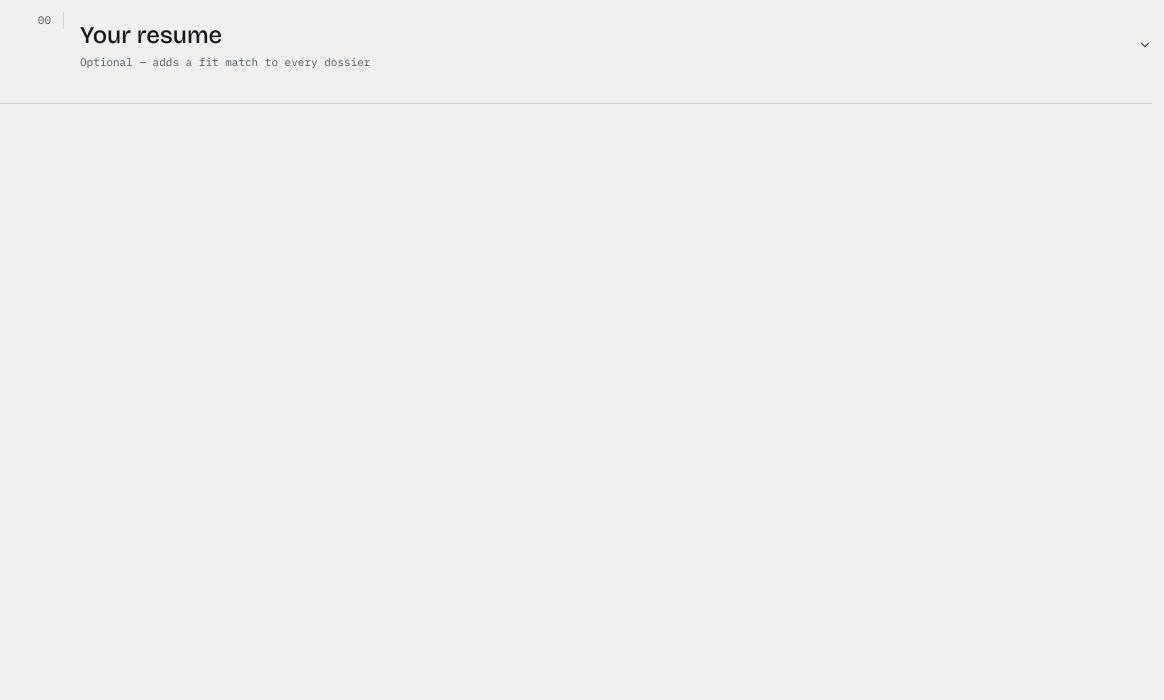
Scenario: ResumePanel — account region (reactive) › opens the create-account form inline from Create an account
The image size is (1164, 700).
What coordinates should you click on to do the following:
click the button "Your resume Optional — adds a fit match to every dossier"
I would click on:
 (151, 35)
Its box is x1=80 y1=12 x2=1152 y2=78.
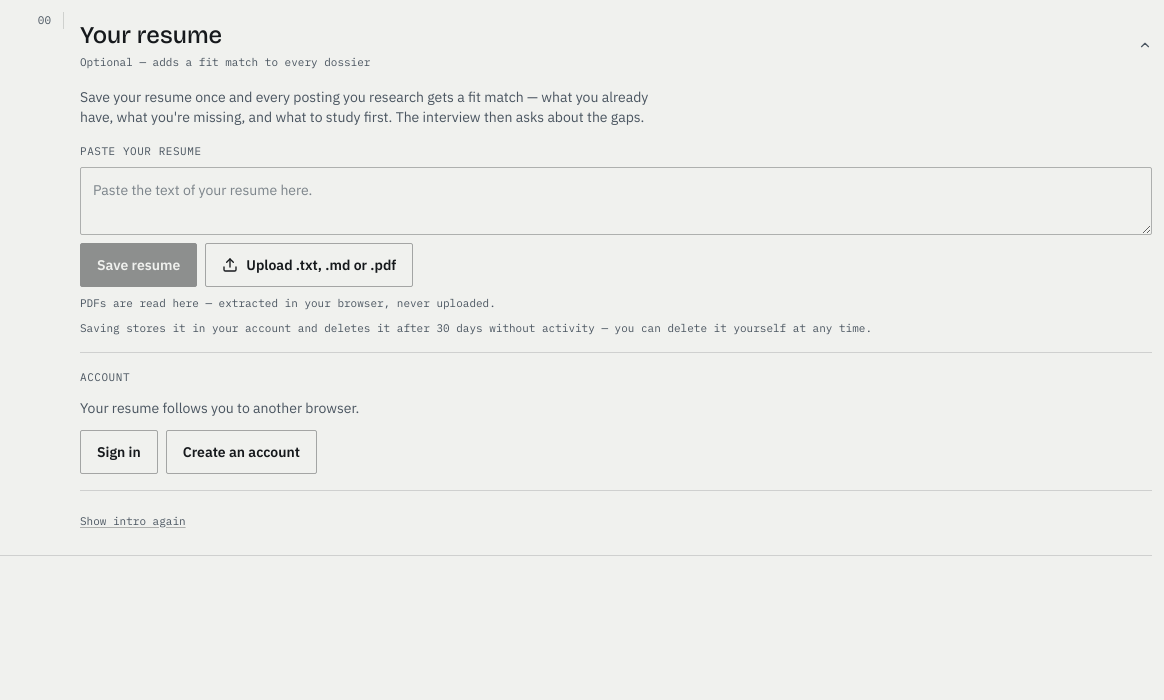
What coordinates should you click on to do the following:
click the button "Create an account"
I would click on:
 (241, 452)
Its box is x1=166 y1=430 x2=317 y2=474.
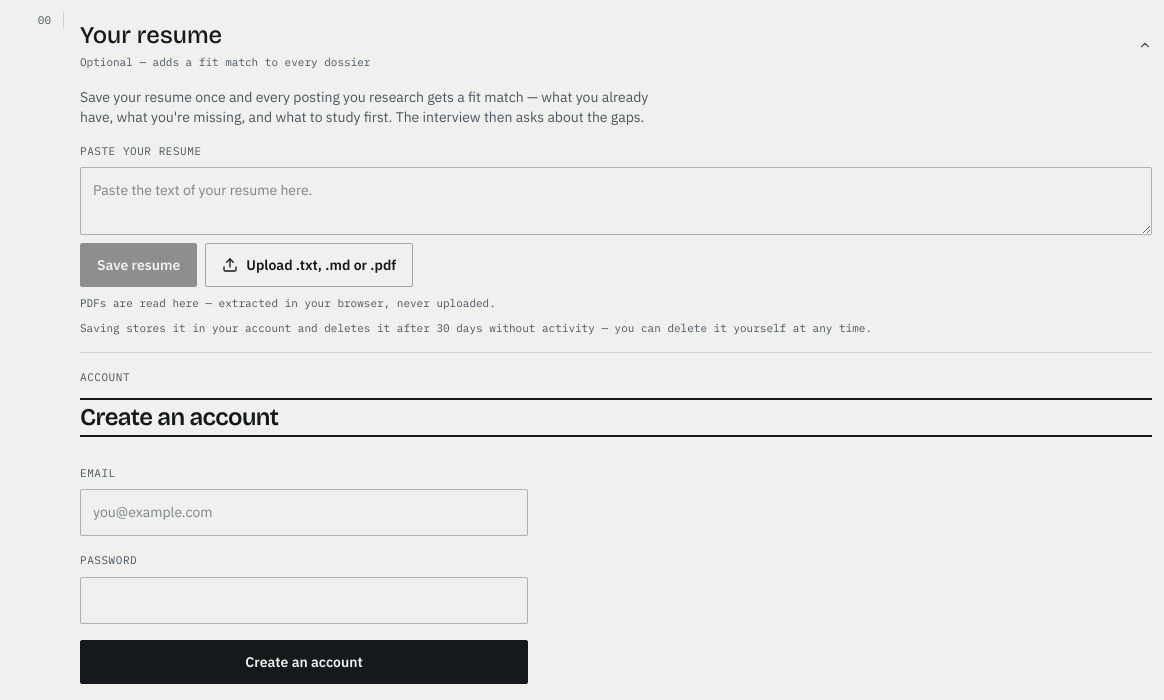
Now the heading "Create an account" is shown, box x1=80 y1=402 x2=278 y2=430
